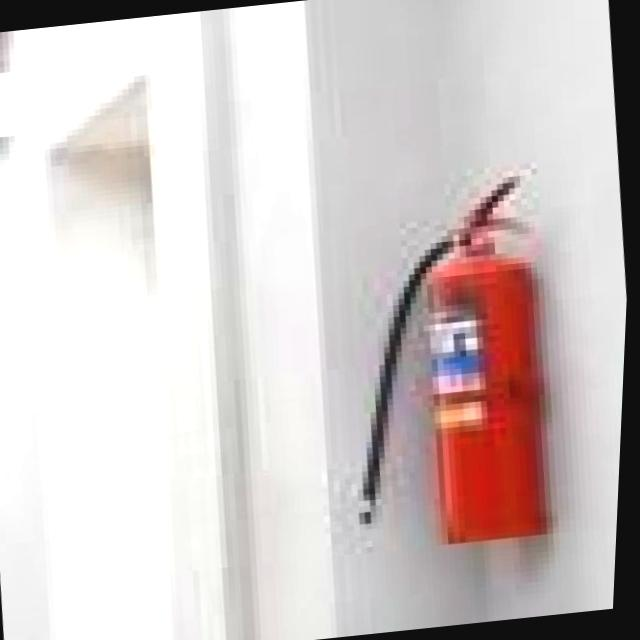FireExtinguisher: (316, 162, 571, 554)
